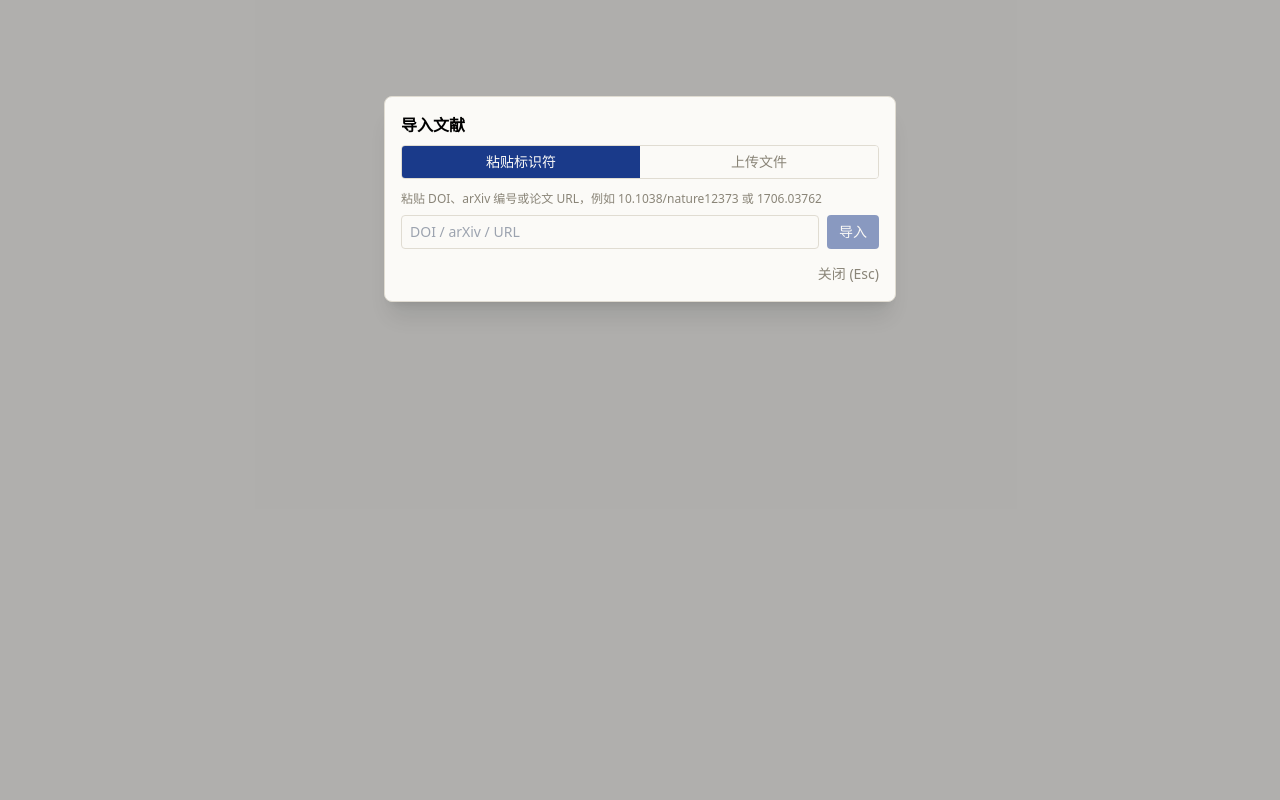
导入对话框 · 上传文件模式 › 切换到「上传文件」页签：显示文件选择与拖拽区
Click the tab "上传文件": (759, 162) [640,146,878,178]
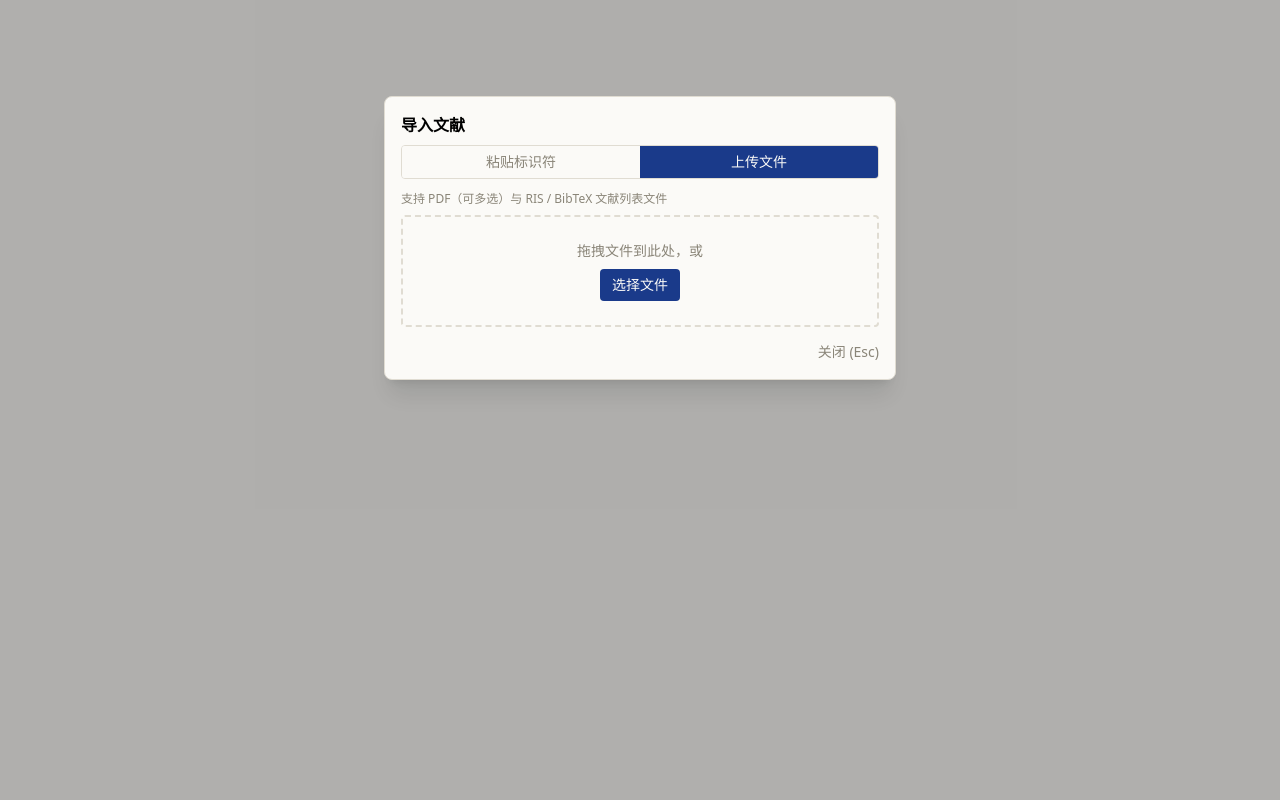
Check: the text "拖拽文件到此处，或" is shown, box [577,241,703,260]
